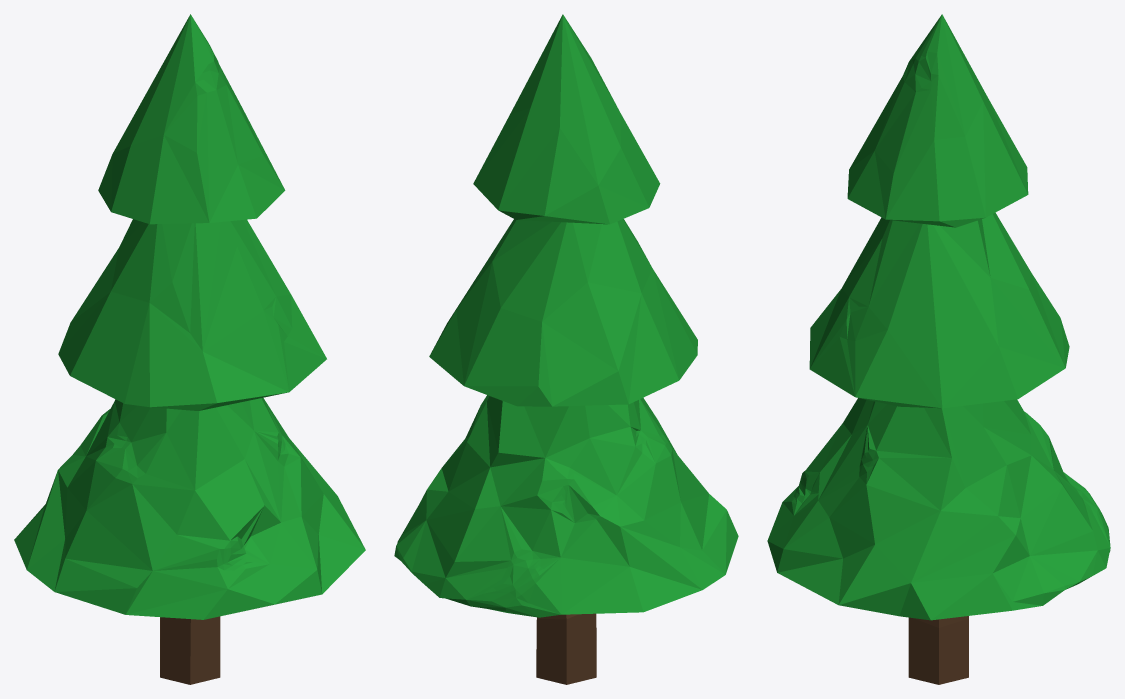
The model's file is Pine_Tree_V2.fbx.
3 views of the same model, side by side, from view 1: azimuth 30°, elevation 25°; view 2: azimuth 150°, elevation 25°; view 3: azimuth 270°, elevation 25° (orthographic).
Parts seen in each view (by area): view 1: polySurface1; view 2: polySurface1; view 3: polySurface1.
Part boxes in pixels (box(x1,y1,x2,y2)): polySurface1: box(14, 14, 365, 684); polySurface1: box(394, 14, 738, 684); polySurface1: box(767, 14, 1110, 684).
Bounding box in the file's own units: 927 × 1938 × 917.
